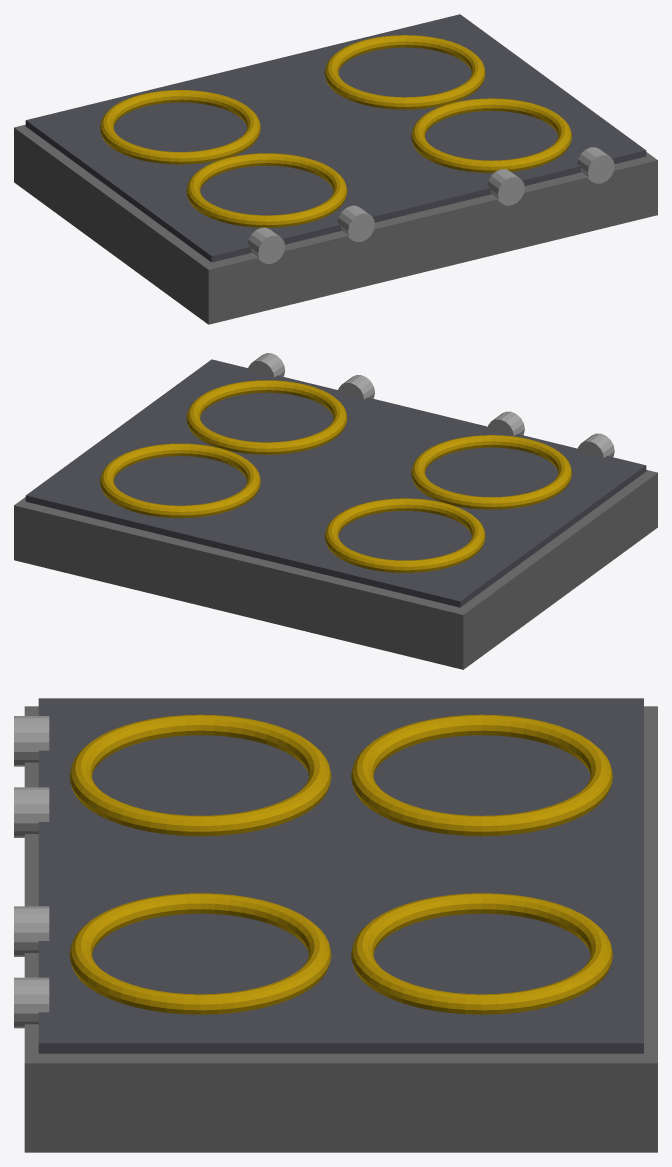
File: stove.glb
3 views of the same model, one above another, from view 1: azimuth 30°, elevation 25°; view 2: azimuth 150°, elevation 25°; view 3: azimuth 270°, elevation 25° (orthographic). The views are drawn at different scales.
Parts seen in each view (by area): view 1: Stove_Surface, Stove_Base, Stove_Burner.001, Stove_Burner.002, Stove_Burner, Stove_Burner.003, Stove_Knob, Stove_Knob.002, Stove_Knob.003, Stove_Knob.001; view 2: Stove_Surface, Stove_Base, Stove_Burner.001, Stove_Burner.003, Stove_Burner, Stove_Burner.002, Stove_Knob.001, Stove_Knob, Stove_Knob.002, Stove_Knob.003; view 3: Stove_Surface, Stove_Base, Stove_Burner.003, Stove_Burner.002, Stove_Burner, Stove_Burner.001, Stove_Knob.003, Stove_Knob, Stove_Knob.001, Stove_Knob.002.
Boxes of the visible parts, x1=… form: Stove_Surface: x1=25, y1=14, x2=646, y2=262; Stove_Base: x1=14, y1=124, x2=657, y2=324; Stove_Burner.001: x1=324, y1=35, x2=485, y2=109; Stove_Burner.002: x1=186, y1=153, x2=347, y2=227; Stove_Burner: x1=100, y1=90, x2=260, y2=164; Stove_Burner.003: x1=411, y1=98, x2=571, y2=172; Stove_Knob: x1=247, y1=227, x2=285, y2=263; Stove_Knob.002: x1=487, y1=169, x2=524, y2=205; Stove_Knob.003: x1=577, y1=147, x2=614, y2=183; Stove_Knob.001: x1=337, y1=205, x2=374, y2=242; Stove_Surface: x1=25, y1=359, x2=646, y2=607; Stove_Base: x1=14, y1=470, x2=657, y2=669; Stove_Burner.001: x1=100, y1=443, x2=260, y2=518; Stove_Burner.003: x1=186, y1=380, x2=347, y2=454; Stove_Burner: x1=324, y1=498, x2=485, y2=572; Stove_Burner.002: x1=411, y1=435, x2=571, y2=509; Stove_Knob.001: x1=487, y1=411, x2=524, y2=435; Stove_Knob: x1=577, y1=433, x2=614, y2=457; Stove_Knob.002: x1=337, y1=375, x2=374, y2=399; Stove_Knob.003: x1=247, y1=353, x2=285, y2=377; Stove_Surface: x1=38, y1=698, x2=643, y2=1053; Stove_Base: x1=24, y1=706, x2=657, y2=1152; Stove_Burner.003: x1=69, y1=893, x2=331, y2=1014; Stove_Burner.002: x1=69, y1=714, x2=331, y2=836; Stove_Burner: x1=351, y1=714, x2=612, y2=836; Stove_Burner.001: x1=351, y1=893, x2=612, y2=1014; Stove_Knob.003: x1=14, y1=977, x2=49, y2=1028; Stove_Knob: x1=14, y1=716, x2=49, y2=766; Stove_Knob.001: x1=14, y1=787, x2=49, y2=837; Stove_Knob.002: x1=14, y1=906, x2=49, y2=956.
Size of the model in its own units: 0.6 by 0.098 by 0.4575.
